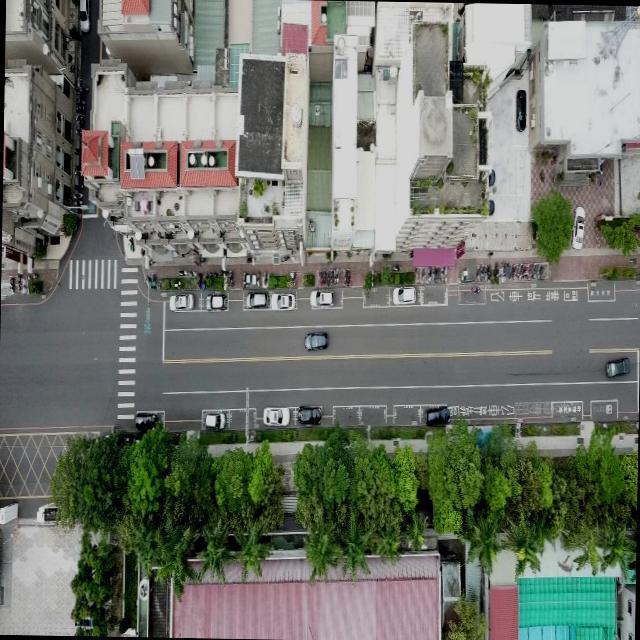car: (272, 286, 298, 311), (242, 288, 270, 311), (570, 206, 584, 248), (262, 406, 290, 426), (424, 404, 450, 425), (604, 356, 630, 377), (296, 405, 322, 424), (201, 409, 225, 429), (309, 289, 334, 308), (304, 331, 328, 350), (170, 293, 196, 310), (205, 291, 228, 310), (392, 286, 416, 304), (134, 411, 156, 429)
